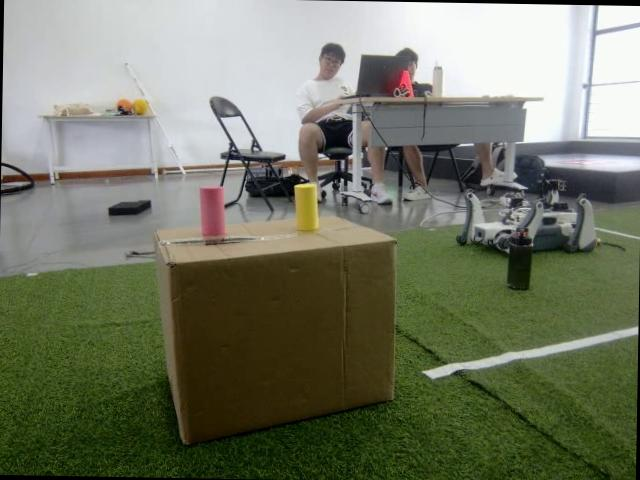red_cylinder: (199, 185, 227, 237)
yellow_cylinder: (294, 183, 320, 231)
